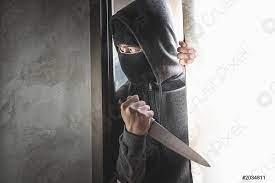Knife: (111, 0, 185, 183), (147, 118, 211, 168), (120, 95, 154, 134)
